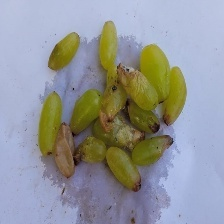grapes: (36, 63, 215, 203)
